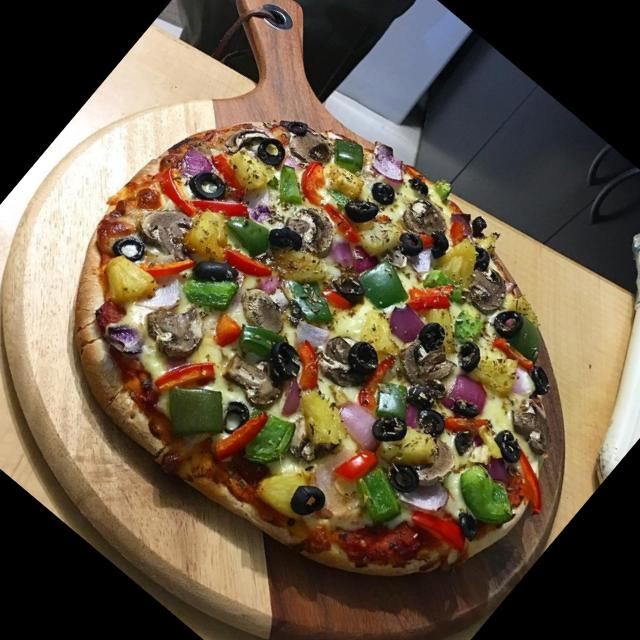black_olives: (400, 216, 458, 274), (334, 331, 390, 387), (178, 158, 234, 213), (335, 186, 384, 236), (407, 310, 455, 358), (328, 264, 376, 312), (189, 249, 236, 296), (285, 474, 331, 522), (447, 334, 492, 382), (484, 298, 528, 342), (370, 406, 413, 451), (110, 228, 152, 268), (386, 460, 426, 500), (268, 340, 308, 380), (252, 132, 290, 171), (490, 427, 528, 465), (417, 399, 455, 437), (222, 395, 258, 434), (462, 237, 499, 274), (520, 360, 556, 398), (454, 506, 490, 542), (367, 174, 399, 207)
mushrooms: (492, 386, 570, 461), (137, 290, 213, 366), (282, 194, 352, 264), (218, 341, 288, 409), (388, 332, 454, 398), (139, 196, 202, 259), (234, 282, 293, 340), (453, 255, 510, 311), (411, 432, 464, 488), (396, 192, 444, 242)
peppers: (152, 368, 234, 452), (336, 444, 416, 521), (208, 298, 282, 371), (210, 398, 280, 472), (402, 495, 474, 562), (146, 340, 214, 410), (398, 260, 464, 326), (356, 252, 420, 317), (190, 172, 252, 235), (501, 452, 562, 512), (220, 237, 280, 293), (317, 194, 377, 250), (224, 206, 280, 260), (323, 128, 372, 176), (148, 164, 196, 212), (297, 164, 341, 206), (208, 150, 250, 190)
pizza: (69, 117, 561, 582)
